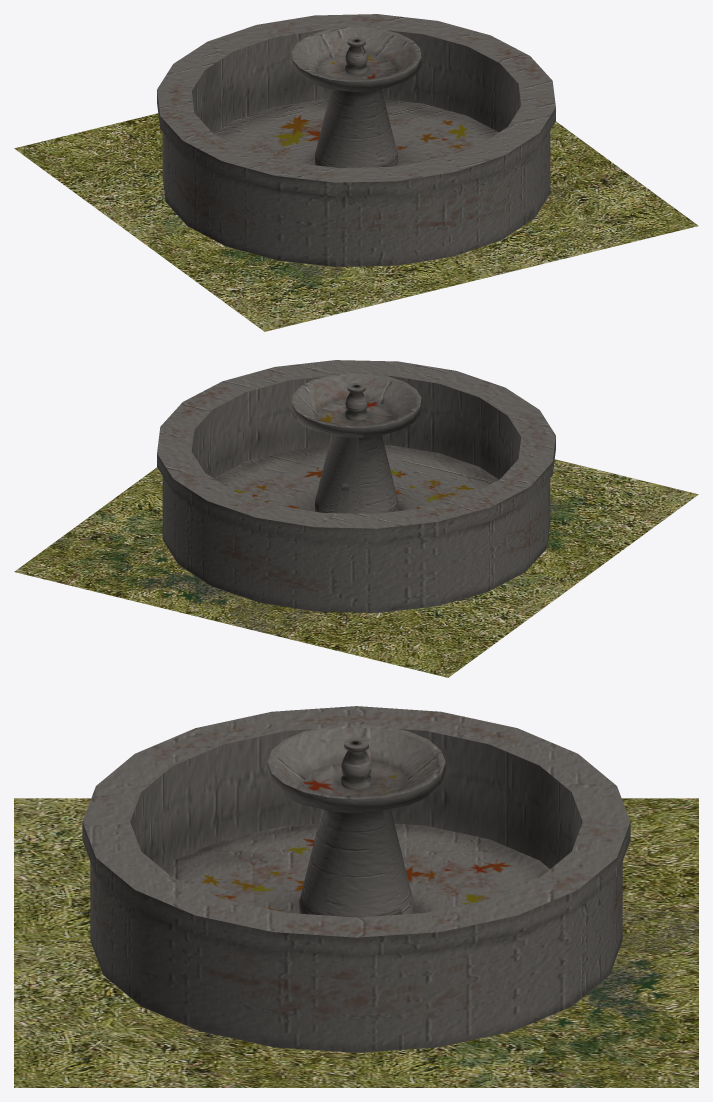
File: Fontän.fbx
3 renders of one model, top to bottom at view 1: azimuth 30°, elevation 25°; view 2: azimuth 150°, elevation 25°; view 3: azimuth 270°, elevation 25°, orthographic. The views are drawn at different scales.
Visible parts, largest first — view 1: Fontain; view 2: Fontain; view 3: Fontain.
Part boxes in pixels (<box>): Fontain: <box>14,14,698,331</box>; Fontain: <box>14,360,698,677</box>; Fontain: <box>14,706,698,1087</box>.
Bounding box in the file's own units: 100 × 32.24 × 100.
Materials: 2 (2 with a texture image).
